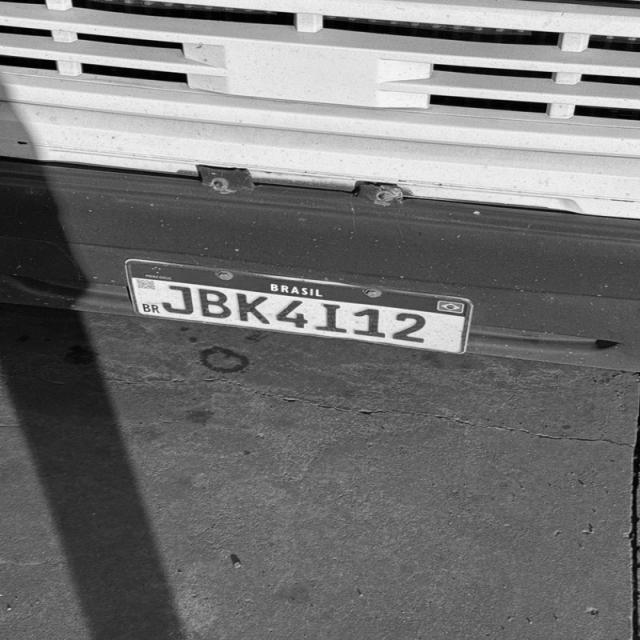placa_mercosul: (125, 260, 473, 353)
